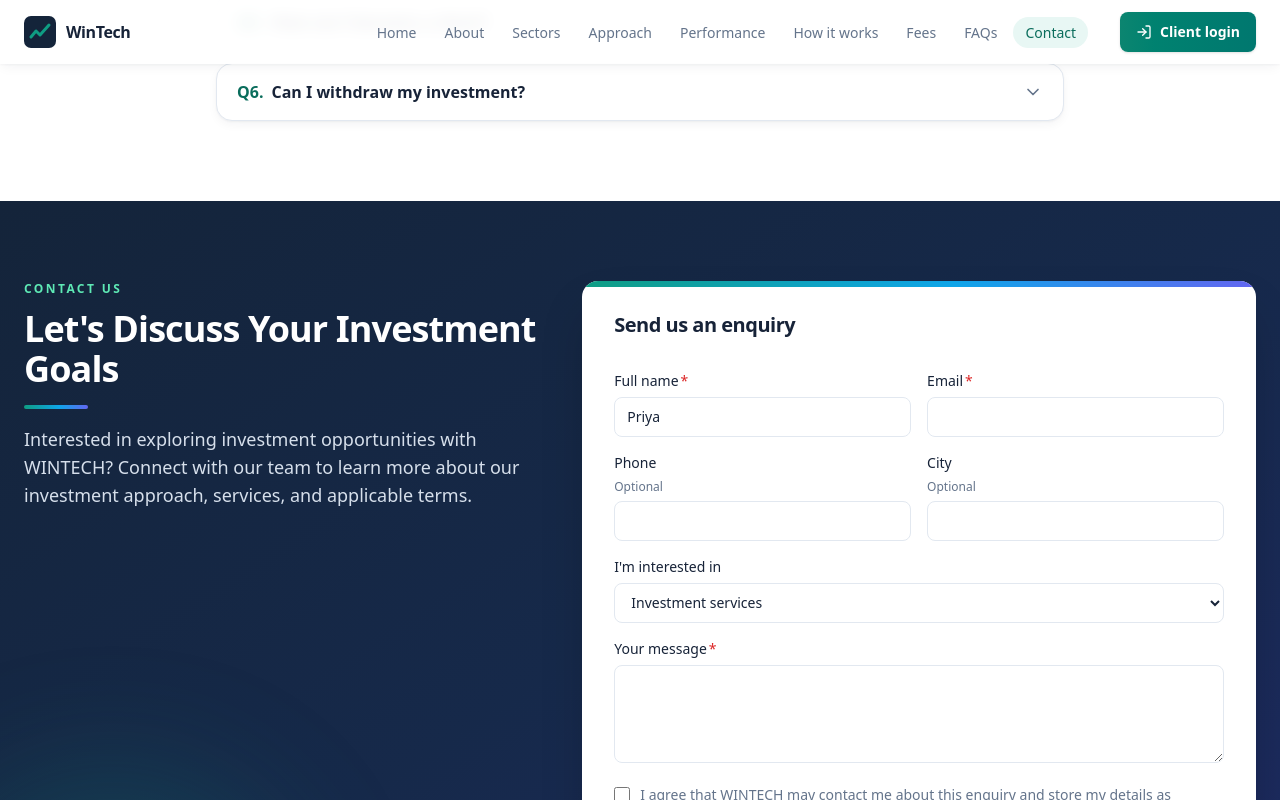
Test: public website › shows the server message when the daily limit is reached
Earlier steps of the test are not shown.
(page scrolled)
Type "priya@example.test" into the field labelled "Email*" at (1076, 416), box [927,396,1224,436]
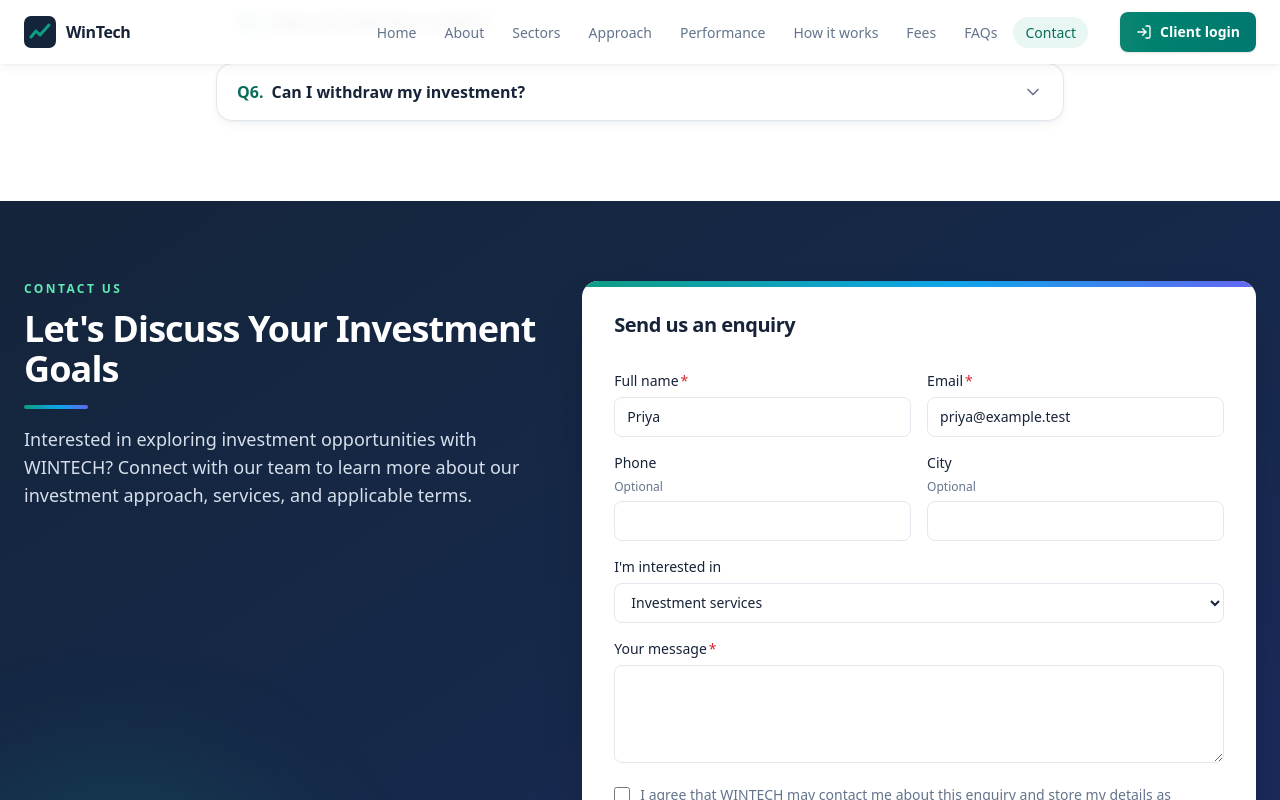
Type "Another question for you." into the text box labelled "Your message*" at (919, 714), box [614,664,1224,762]
(page scrolled)
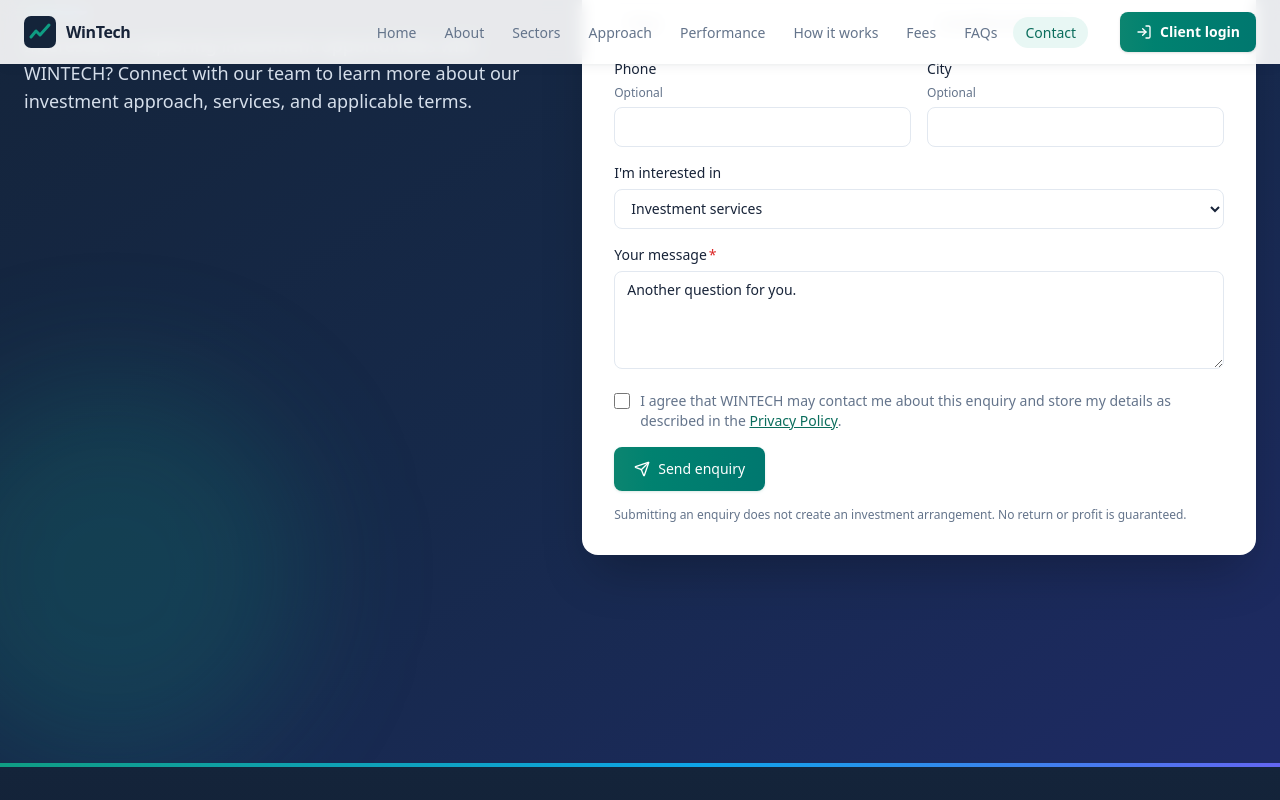
Click the checkbox at (622, 400), box [614,392,630,408]
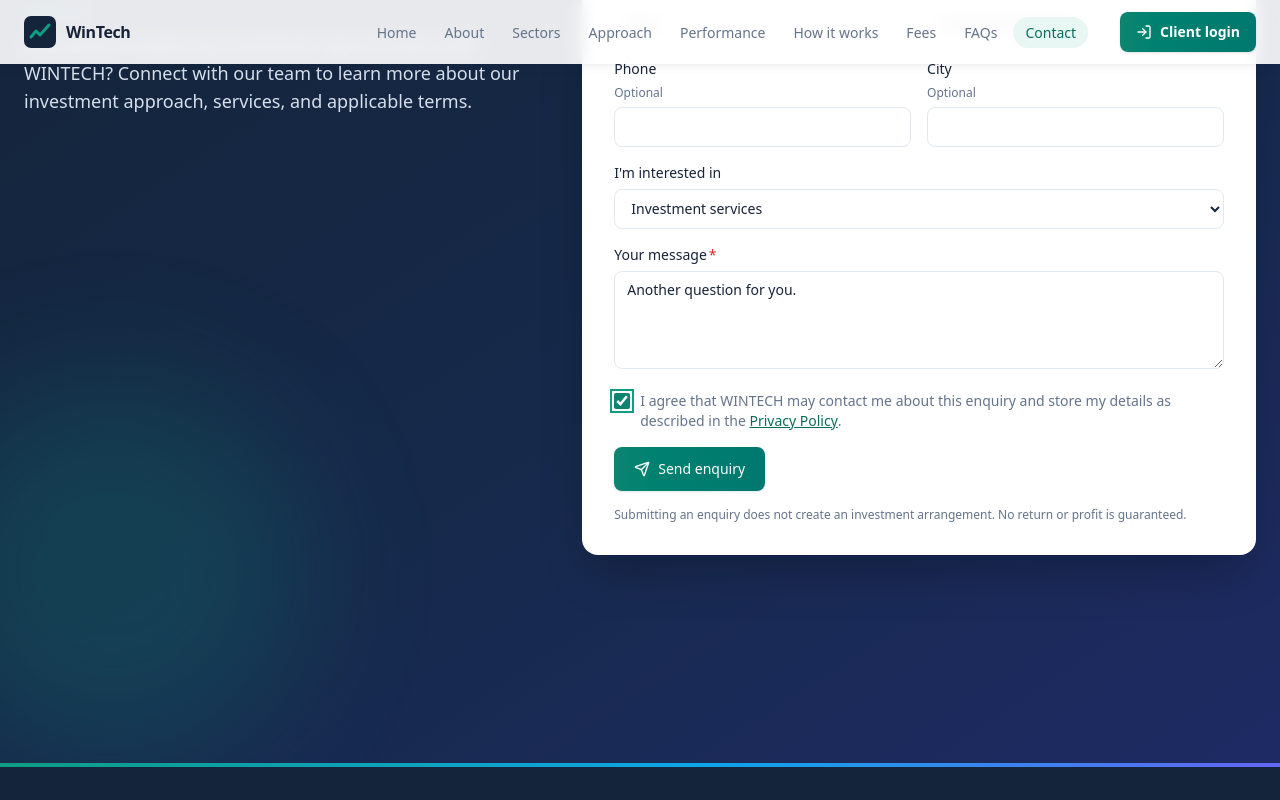
Click the button "Send enquiry" at (690, 468), box [614,446,765,490]
(page scrolled)
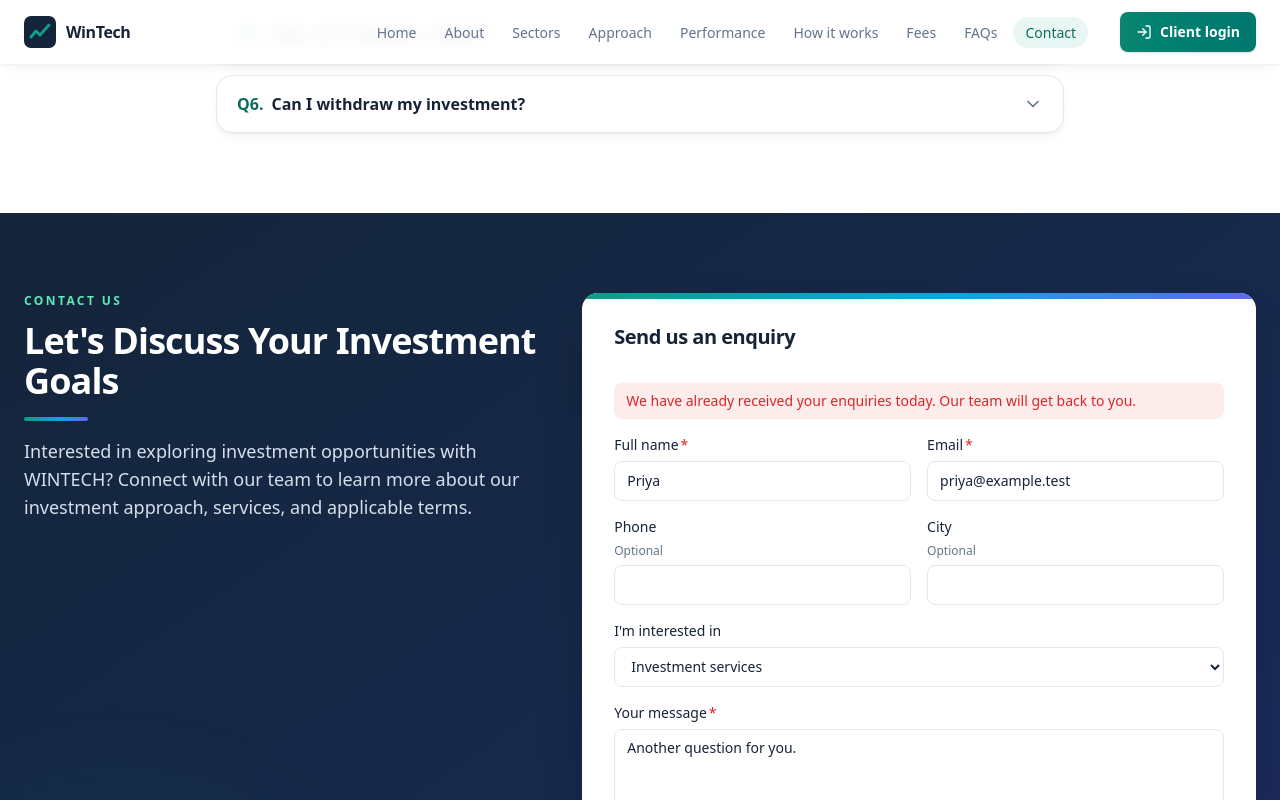
Now the message shows "already received your enquiries today", box [626,390,1136,410]
